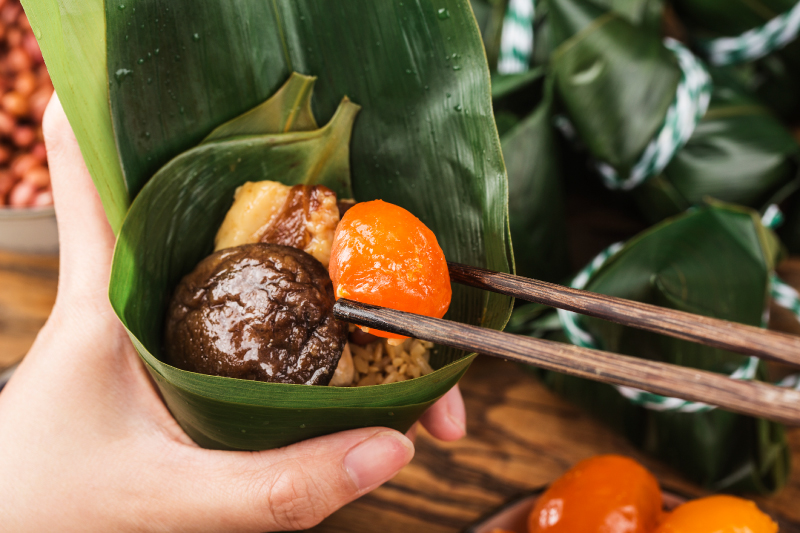zongzi: (166, 182, 451, 383), (548, 0, 799, 221), (542, 371, 789, 493), (574, 204, 779, 325), (509, 304, 770, 380)
